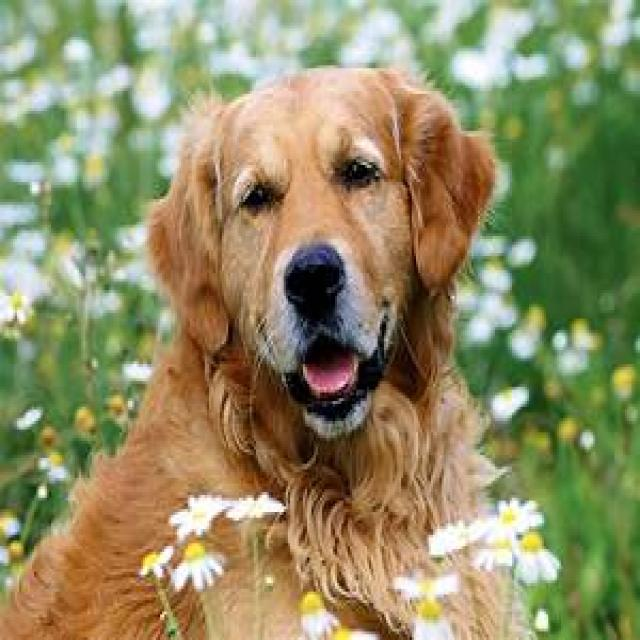dog: (0, 65, 531, 640)
